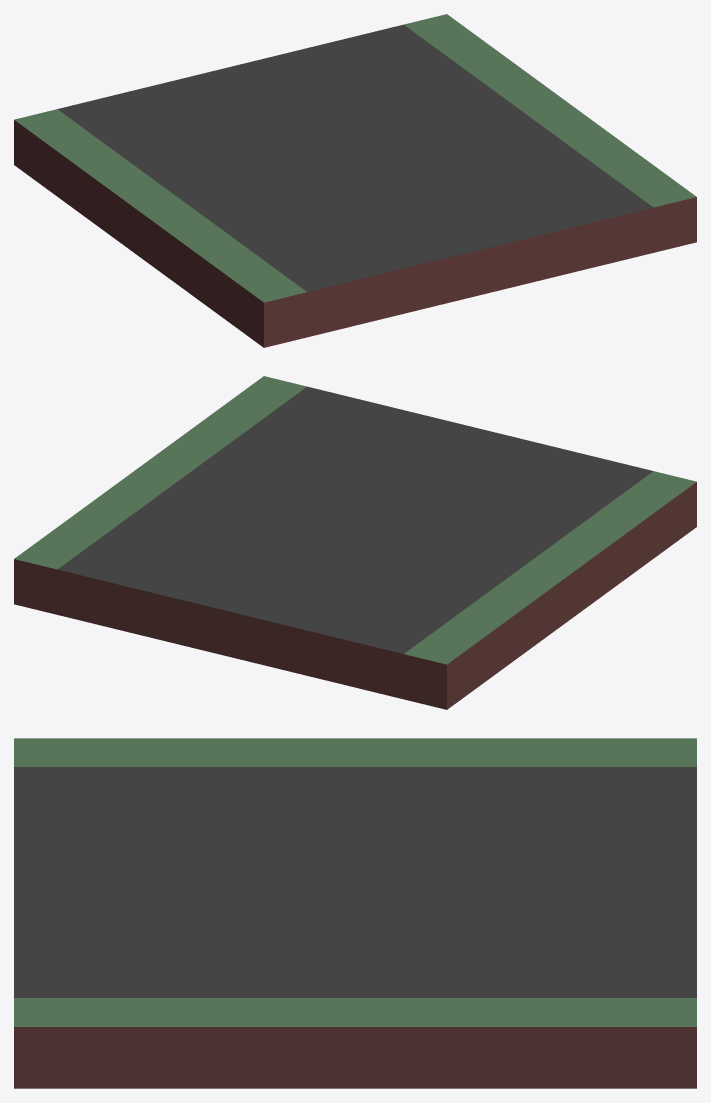
Rendered from tile-road.fbx.
3 views of the same model, one above another, from view 1: azimuth 30°, elevation 25°; view 2: azimuth 150°, elevation 25°; view 3: azimuth 270°, elevation 25° (orthographic). The views are drawn at different scales.
Parts seen in each view (by area): view 1: tile_road; view 2: tile_road; view 3: tile_road.
Part boxes in pixels (box(x1,y1,x2,y2)): tile_road: box(14, 14, 696, 347); tile_road: box(14, 376, 696, 709); tile_road: box(14, 738, 696, 1088).
Size of the model in its own units: 100 by 10 by 100.
